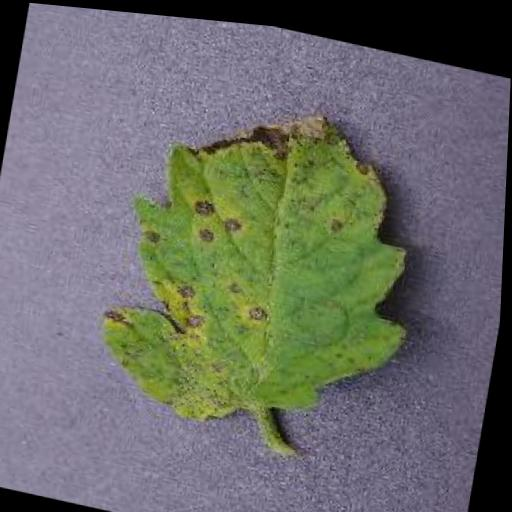Septoria: (97, 69, 441, 454)
